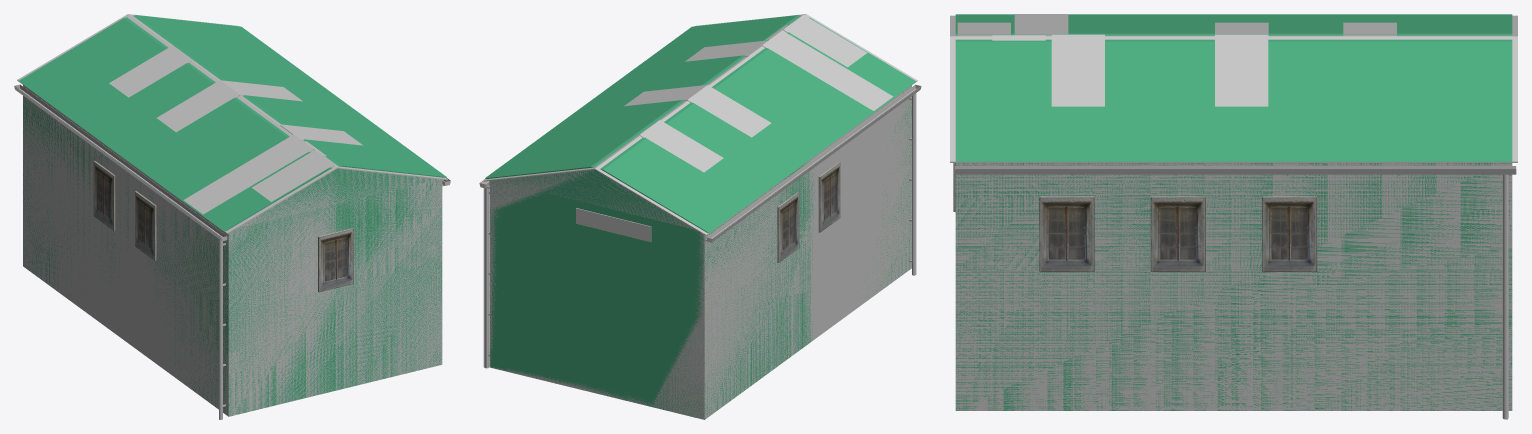
Rendered from ind_bld_05.dae.
3 views of the same model, side by side, from view 1: azimuth 30°, elevation 25°; view 2: azimuth 150°, elevation 25°; view 3: azimuth 270°, elevation 25° (orthographic). The views are drawn at different scales.
Parts seen in each view (by area): view 1: Colmesh-1, ind_bld_c300, ind_bld_c80, nd_bld_c50; view 2: Colmesh-1, ind_bld_c300, ind_bld_c80, nd_bld_c50; view 3: Colmesh-1, ind_bld_c300, ind_bld_c80, nd_bld_c50.
Boxes of the visible parts, x1,y1,x2,y2 form: Colmesh-1: (19, 15, 446, 416); ind_bld_c300: (14, 14, 450, 419); ind_bld_c80: (15, 45, 450, 419); nd_bld_c50: (23, 86, 442, 413); Colmesh-1: (485, 15, 916, 419); ind_bld_c300: (479, 14, 921, 419); ind_bld_c80: (480, 15, 920, 418); nd_bld_c50: (514, 87, 911, 416); Colmesh-1: (955, 14, 1512, 410); ind_bld_c300: (950, 15, 1517, 419); ind_bld_c80: (955, 14, 1516, 419); nd_bld_c50: (955, 163, 1512, 410).
Bounding box in the file's own units: 6.47 × 10.2 × 6.15.
